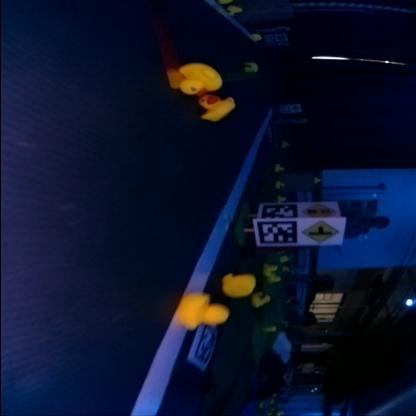Duckie: (178, 292, 230, 330), (179, 62, 221, 94), (199, 95, 235, 121), (222, 274, 256, 298), (250, 294, 272, 306), (245, 61, 258, 72), (264, 264, 278, 272), (268, 275, 282, 282), (251, 34, 259, 40), (278, 180, 285, 186), (276, 165, 284, 170), (278, 195, 286, 200)
Intersection sign: (302, 220, 340, 242)
QR code: (188, 322, 218, 370), (258, 220, 298, 242), (261, 203, 299, 219)
Signal sign: (303, 202, 337, 218)
